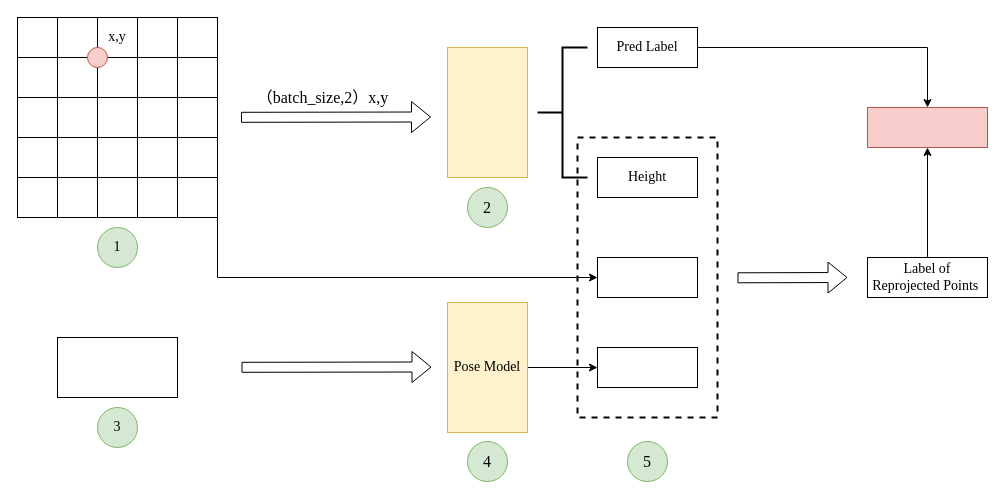
Some shapes in this 1005 by 499 pixel diagram are drawn without their labels. Here are the shapes that lost their labels. From the top down, the centre of each, then its label:
At point 487,112: "NeRF(MLP)".
At point 927,127: "Cross-entropy Loss".
At point 647,277: "(x,y)".
At point 117,367: "Init Poses".
At point 647,367: "Rectified Poses".
